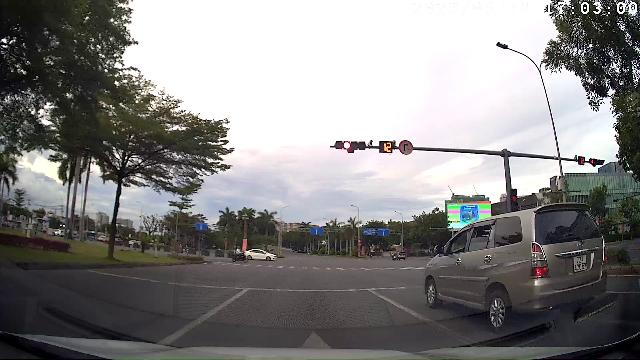123b-cam-re-phai: (399, 140, 413, 154)
